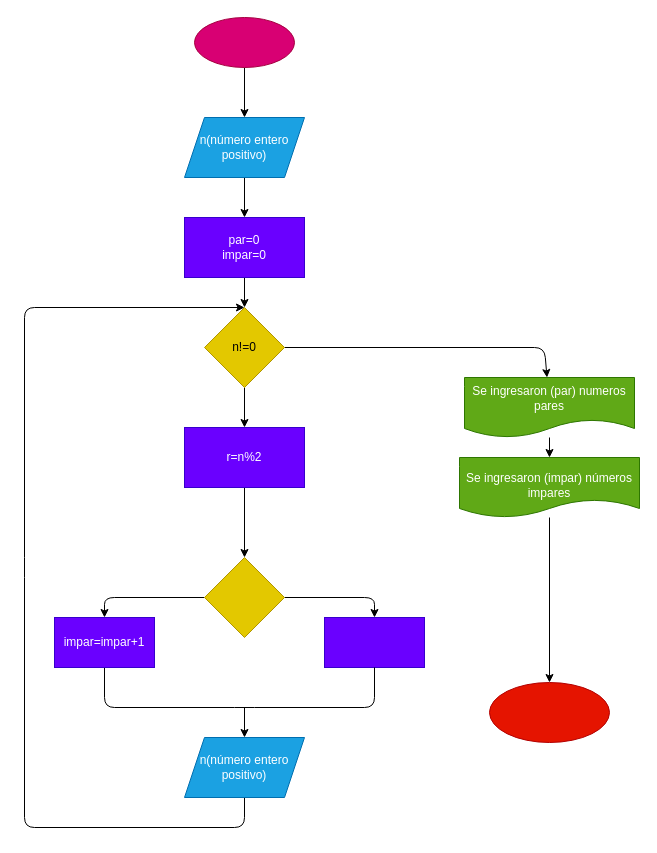
The diagram is 657 pixels wide and 853 high, and some of its shapes have lost their labels. Here are the shapes that lost their labels. From the top down, the box of each, then its label:
(194, 16, 294, 68): Inicio
(204, 556, 284, 638): r==0
(324, 616, 424, 668): par=par+1
(488, 682, 610, 742): Fin
